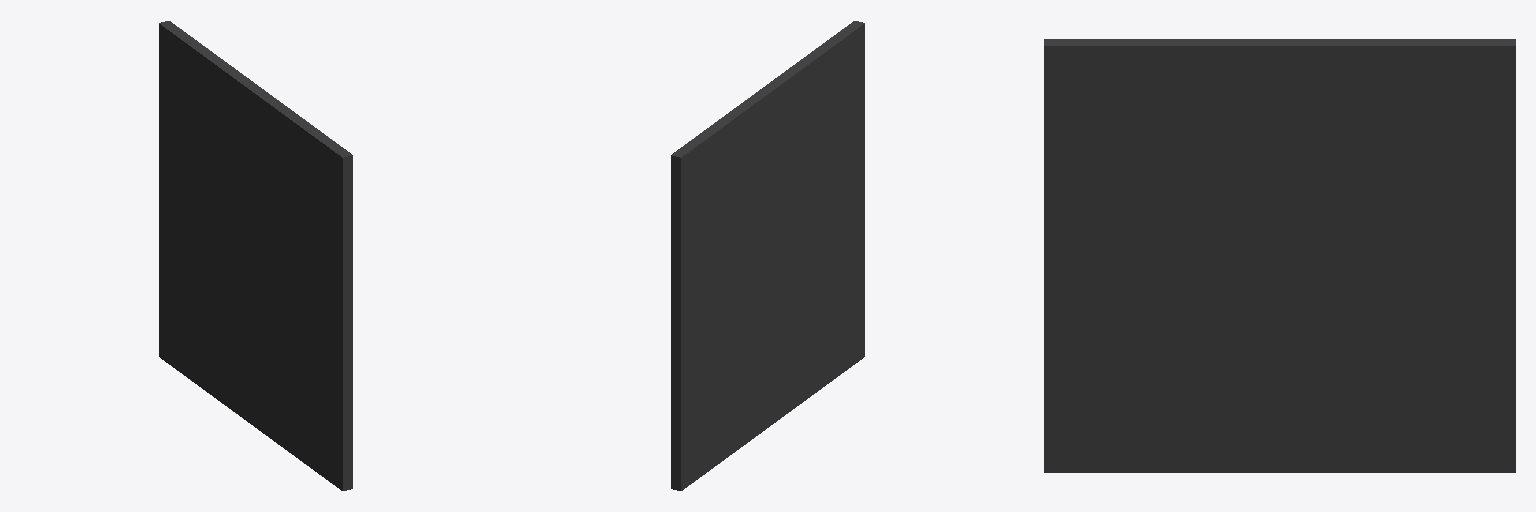
The robot description file, URDF, robot "box":
<?xml version='1.0' encoding='UTF-8'?>
<robot name="box">
  <link name="base_link">
    <inertial>
      <origin xyz="0.0 0.0 0.0" rpy="0.0 -0.0 0.0"/>
      <mass value="1.0"/>
      <inertia ixx="1.0" ixy="0.0" ixz="0.0" iyy="1.0" iyz="0.0" izz="1.0"/>
    </inertial>
    <visual name="base_link_visual">
      <geometry>
        <box size="0.1 3.0 3.0"/>
      </geometry>
      <material name="base_link_color">
        <color rgba="0.3 0.3 0.3 1"/>
      </material>
      <origin xyz="0 0 0" rpy="0 0 0"/>
    </visual>
    <collision name="base_link_collision">
      <geometry>
        <box size="0.1 3.0 3.0"/>
      </geometry>
      <origin xyz="0 0 0" rpy="0 0 0"/>
    </collision>
  </link>
</robot>

--- What the picture shows (computed from the rendered views, not written in the file) ---
3 views of the same robot in one strip: view 1: azimuth 30°, elevation 25°; view 2: azimuth 150°, elevation 25°; view 3: azimuth 270°, elevation 25° (orthographic).
Model box with 1 links and 0 joints (none), rooted at base_link, posed every joint at zero.
Visible links, largest first — view 1: base_link; view 2: base_link; view 3: base_link.
Link boxes in pixels (bbox=[...]): base_link: bbox=[159, 21, 352, 490]; base_link: bbox=[671, 21, 864, 490]; base_link: bbox=[1044, 39, 1515, 472].
Bounding box of the posed robot: 0.1 × 3 × 3 m (x, y, z).
Geometry: primitives only (box / cylinder / sphere), no mesh files.